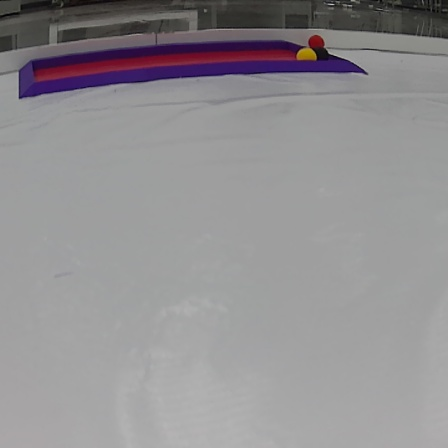black: (315, 47, 330, 59)
red: (309, 34, 323, 44)
red_aim: (11, 39, 371, 99)
yellow: (296, 48, 315, 60)
